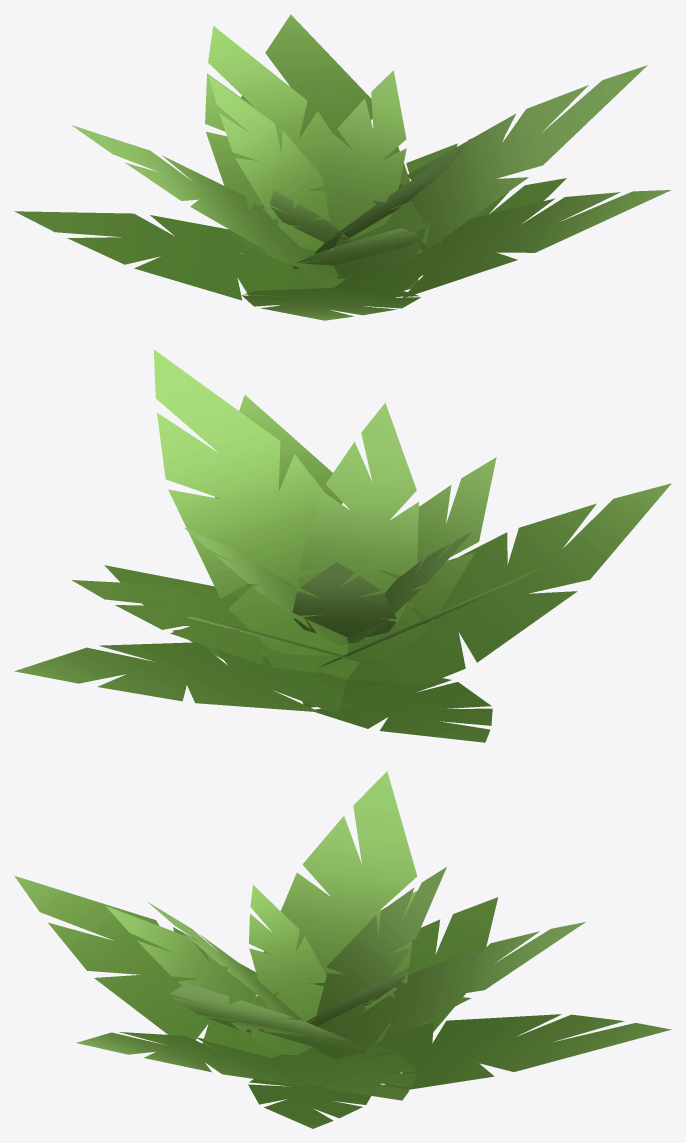
Rendered from pack03_foliage2_05.fbx.
The picture shows the model from 3 angles, top to bottom: view 1: azimuth 30°, elevation 25°; view 2: azimuth 150°, elevation 25°; view 3: azimuth 270°, elevation 25°; orthographic projection. The views are drawn at different scales.
Parts seen in each view (by area): view 1: Grass.008; view 2: Grass.008; view 3: Grass.008.
Boxes of the visible parts, left/top/right/bottom form: Grass.008: left=14, top=14, right=670, bottom=320; Grass.008: left=14, top=349, right=671, bottom=742; Grass.008: left=14, top=771, right=671, bottom=1128.
Bounding box in the file's own units: 117 × 48.95 × 141.
Materials: 1 (1 with a texture image).
